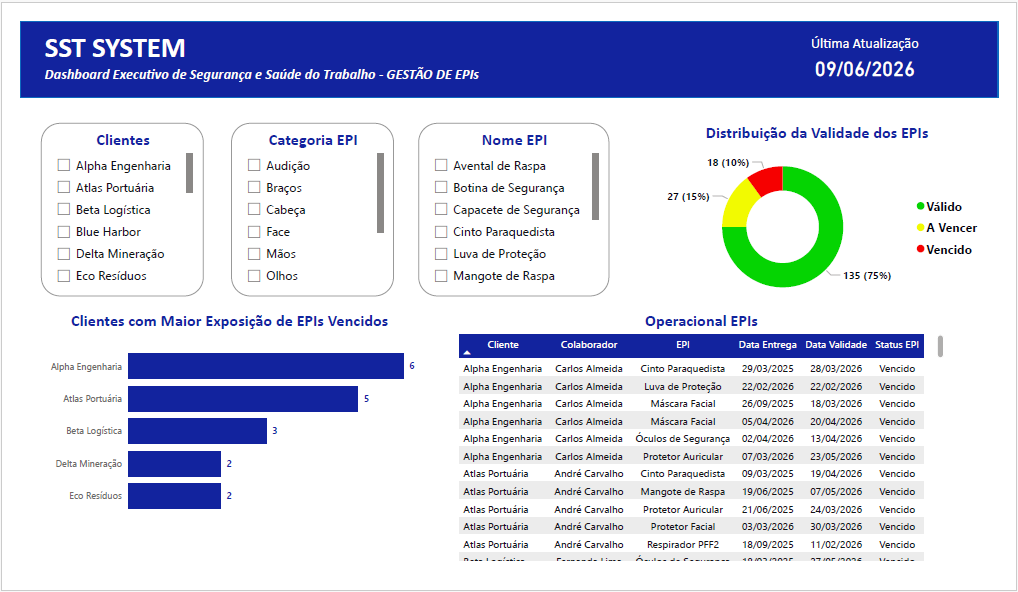

The dashboard page shown, as its layout file describes it:
{"tool":"powerbi","page":{"name":"Gestão de EPIs","canvas":[1280,720],"ordinal":2},"visuals":[{"type":"shape","box":[0,0,1280,100],"z":0},{"type":"card","title":"Última Atualização","fields":{"Values":["Medidas.Última Atualização"]},"box":[944.3,17.1,322.9,65.7],"z":1000},{"type":"textbox","box":[27.1,5.7,852.9,87.1],"z":2000},{"type":"slicer","title":"Categoria EPI","fields":{"Values":["public vw_epis.categoria"]},"box":[275.7,132.9,212.9,227.1],"z":3000},{"type":"slicer","title":"Clientes","fields":{"Values":["public clientes.nome_fantasia"]},"box":[27.1,132.9,212.9,227.1],"z":4000},{"type":"barChart","title":"Clientes com Maior Exposição de EPIs Vencidos","fields":{"Category":["public clientes.nome_fantasia"],"Y":["Medidas.EPIs Vencidos Cliente"]},"box":[27.1,378.6,494.3,282.9],"z":5000},{"type":"donutChart","title":"Distribuição da Validade dos EPIs","fields":{"Category":["public vw_epis.status_epi"],"Y":["CountNonNull(public vw_epis.status_epi)"]},"box":[818.6,132.9,448.6,245.7],"z":6000},{"type":"tableEx","title":"Operacional EPIs","fields":{"Values":["public clientes.nome_fantasia","public vw_epis.nome","public vw_epis.nome_epi","public vw_epis.data_entrega","public vw_epis.data_validade","public vw_epis.status_epi"]},"box":[568.6,378.6,645.7,332.9],"z":7000},{"type":"slicer","title":"Nome EPI","fields":{"Values":["public vw_epis.nome_epi"]},"box":[521.4,132.9,250,227.1],"z":8000}]}

Visuals, with their boxes on the page's 1280x720 design canvas (x1, y1, x2, y2). These are canvas units, not pixel positions in the 1018x592 screenshot, which may show the page scaled, cropped or inside an application window:
shape: bbox=[0, 0, 1280, 100]
"Última Atualização" card: bbox=[944, 17, 1267, 83]
textbox: bbox=[27, 6, 880, 93]
"Categoria EPI" slicer: bbox=[276, 133, 489, 360]
"Clientes" slicer: bbox=[27, 133, 240, 360]
"Clientes com Maior Exposição de EPIs Vencidos" barChart: bbox=[27, 379, 521, 662]
"Distribuição da Validade dos EPIs" donutChart: bbox=[819, 133, 1267, 379]
"Operacional EPIs" tableEx: bbox=[569, 379, 1214, 712]
"Nome EPI" slicer: bbox=[521, 133, 771, 360]
